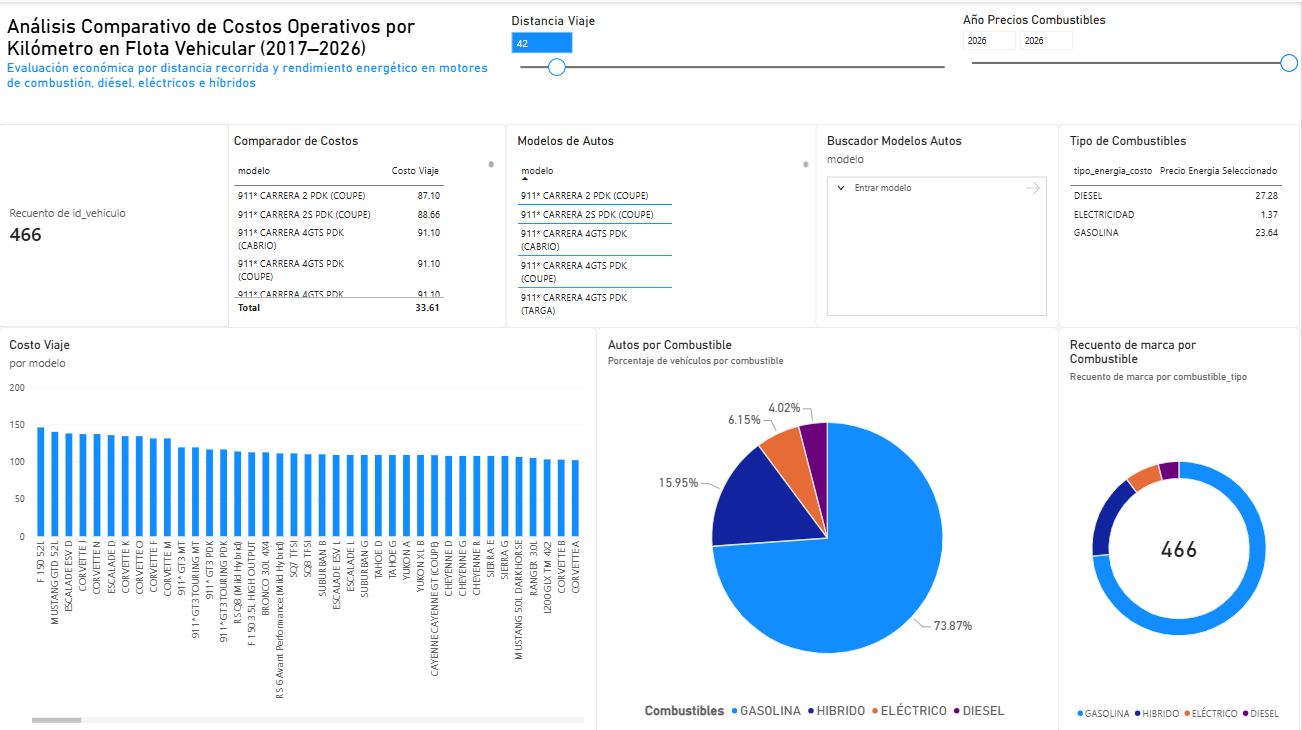

Layout of this report page (visuals, bound fields, positions):
{"tool":"powerbi","page":{"name":"Página 1","canvas":[1920,1080],"ordinal":0},"visuals":[{"type":"slicer","fields":{"Values":["PreciosEnergia.año"]},"box":[1414.6,0,505.1,180],"z":0},{"type":"slicer","fields":{"Values":["Distancia Viaje.Distancia Viaje"]},"box":[748.9,0,665.7,180],"z":1000},{"type":"tableEx","title":"Tipo de Combustibles","fields":{"Values":["TipoEnergia.tipo_energia_costo","PreciosEnergia.Precio Energia Seleccionado"]},"box":[1563.6,180,356,300],"z":3000},{"type":"tableEx","title":"Modelos de Autos","fields":{"Values":["dim_vehiculo.modelo"]},"box":[748.9,180,464,300],"z":4000},{"type":"tableEx","title":"Comparador de Costos","fields":{"Values":["dim_vehiculo.modelo","dim_vehiculo.Costo Viaje"]},"box":[330.9,180,418,299.9],"z":5000},{"type":"clusteredColumnChart","fields":{"Category":["dim_vehiculo.modelo"],"Y":["dim_vehiculo.Costo Viaje"]},"box":[0,480.3,882,600],"z":6000},{"type":"textSlicer","title":"Buscador Modelos Autos","fields":{"Values":["dim_vehiculo.modelo"]},"box":[1205.6,180,358,299.9],"z":7000},{"type":"cardVisual","fields":{"Data":["CountNonNull(dim_vehiculo.id_vehiculo)"]},"box":[0,180,340.6,299.9],"z":7001},{"type":"textbox","title":"Análisis Comparativo de Costos Operativos por Kilómetro en Flota Vehicular (2017–2026)","box":[0,0,748.9,180],"z":7002},{"type":"pieChart","title":"Autos por Combustible","fields":{"Category":["dim_vehiculo.combustible_tipo"],"Y":["Sum(dim_vehiculo.id_vehiculo)"]},"box":[882.5,480,681.2,600],"z":7003},{"type":"donutChart","title":"Recuento de marca por Combustible","fields":{"Category":["dim_vehiculo.combustible_tipo"],"Y":["CountNonNull(dim_vehiculo.marca)"]},"box":[1564,480,356,600],"z":7004}]}

Visuals, with their boxes in screenshot pixels (x1, y1, x2, y2), scaled from the page's 1920x1080 canvas onto the 1302x730 screenshot:
slicer - PreciosEnergia.año: x1=959 y1=0 x2=1301 y2=122
slicer - Distancia Viaje.Distancia Viaje: x1=508 y1=0 x2=959 y2=122
"Tipo de Combustibles" tableEx: x1=1060 y1=122 x2=1301 y2=324
"Modelos de Autos" tableEx: x1=508 y1=122 x2=822 y2=324
"Comparador de Costos" tableEx: x1=224 y1=122 x2=508 y2=324
clusteredColumnChart - dim_vehiculo.modelo x dim_vehiculo.Costo Viaje: x1=0 y1=325 x2=598 y2=729
"Buscador Modelos Autos" textSlicer: x1=818 y1=122 x2=1060 y2=324
cardVisual - CountNonNull(dim_vehiculo.id_vehiculo): x1=0 y1=122 x2=231 y2=324
"Análisis Comparativo de Costos Operativos por Kilómetro en Flota Vehicular (2017–2026)" textbox: x1=0 y1=0 x2=508 y2=122
"Autos por Combustible" pieChart: x1=598 y1=324 x2=1060 y2=729
"Recuento de marca por Combustible" donutChart: x1=1061 y1=324 x2=1301 y2=729
